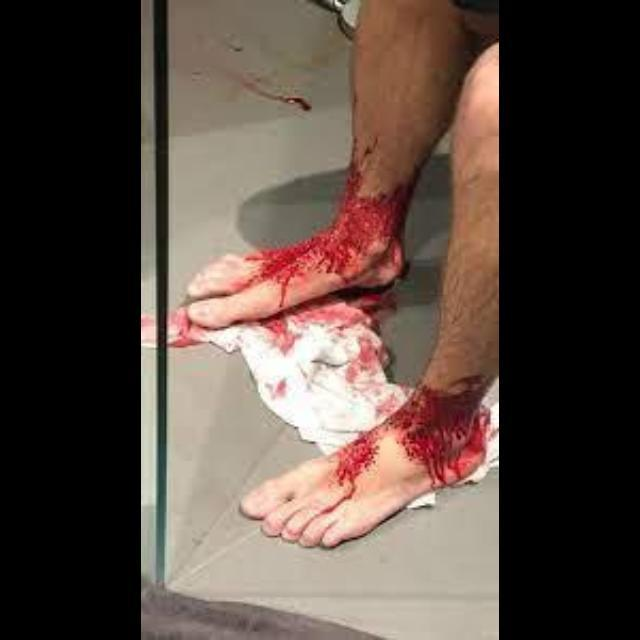blood: (247, 173, 414, 306), (337, 386, 491, 490), (263, 303, 388, 372)
